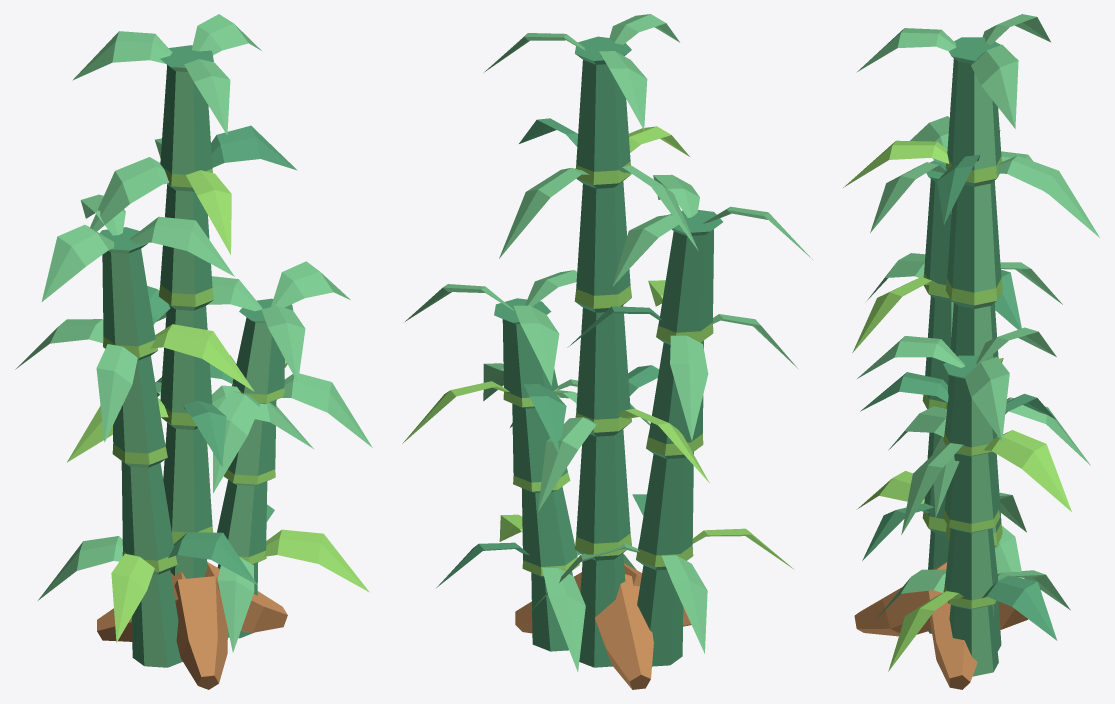
File: 15-bamboo.glb
3 renders of one model, left to right at view 1: azimuth 30°, elevation 25°; view 2: azimuth 150°, elevation 25°; view 3: azimuth 270°, elevation 25°, orthographic. The views are drawn at different scales.
Visible parts, largest first — view 1: 15-bamboo_Body; view 2: 15-bamboo_Body; view 3: 15-bamboo_Body.
Part boxes in pixels (x1,y1,x2,y2): 15-bamboo_Body: (15, 14, 372, 689); 15-bamboo_Body: (402, 14, 812, 689); 15-bamboo_Body: (843, 14, 1099, 689).
Bounding box in the file's own units: 0.5712 × 0.931 × 0.3534.
1 material, 1 textured.
